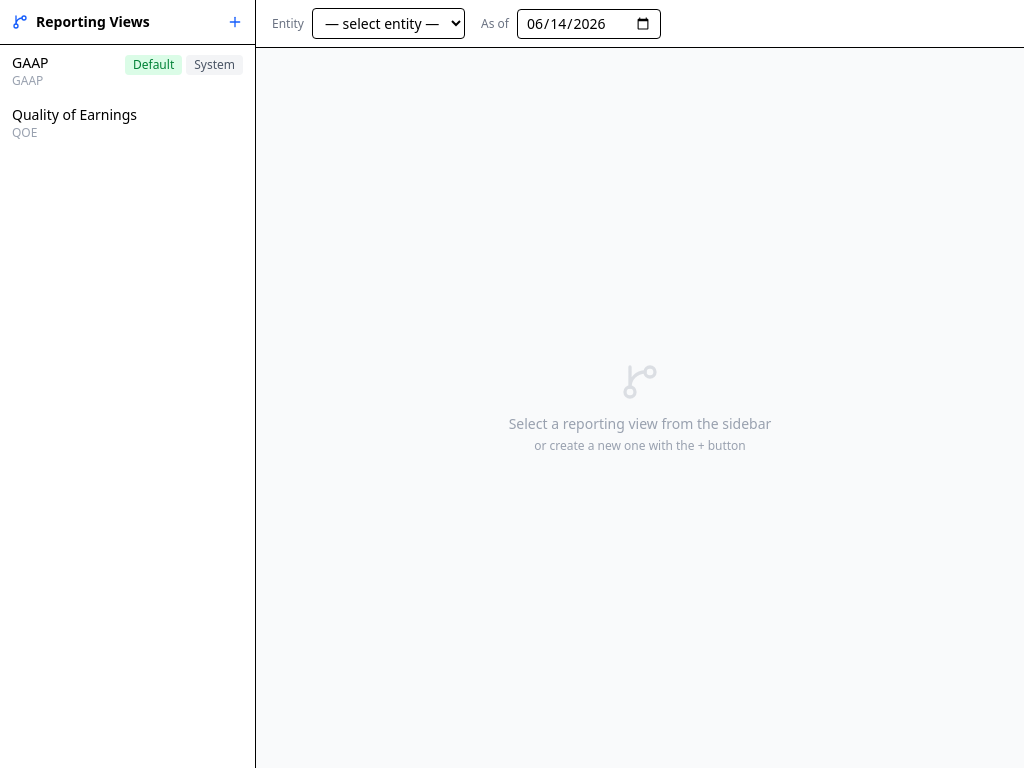
Test: ReportingViewWorkspacePage › shows tab bar after selecting a view
The image size is (1024, 768).
Click the element with test id "view-item-1": (128, 71) [0,45,255,97]
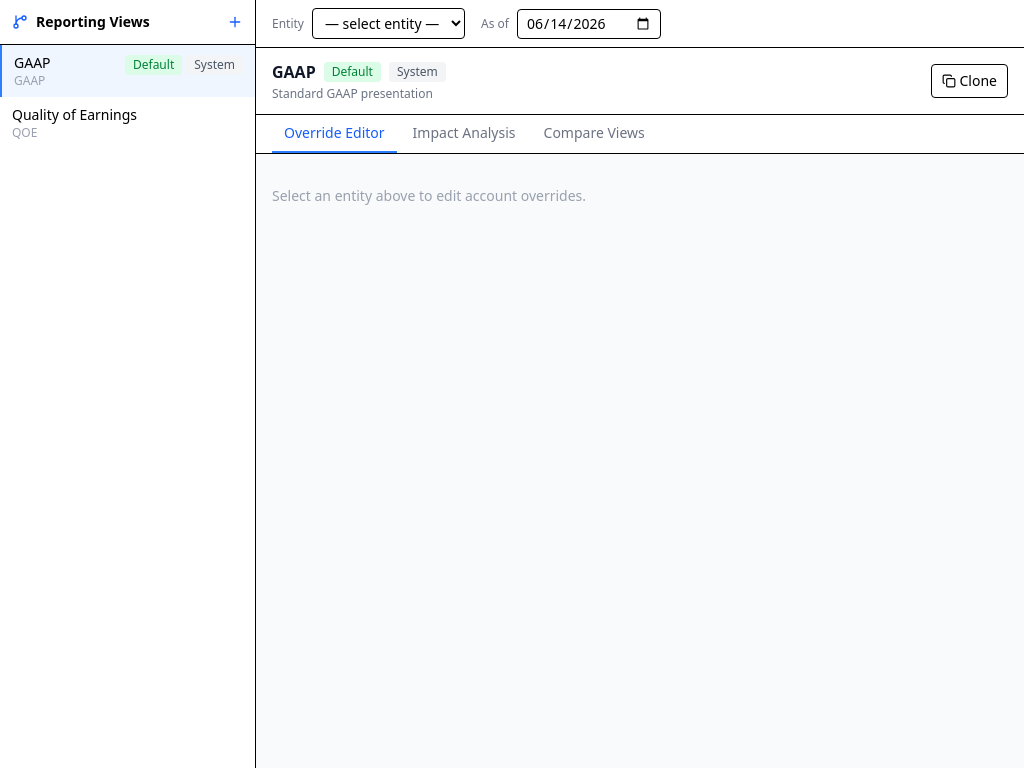
Expected: the element with test id "view-tabs" is shown, [256,115,1023,154]
Expected: the button with test id "tab-overrides" is shown, [272,115,397,153]
Expected: the button with test id "tab-impact" is shown, [401,115,528,153]
